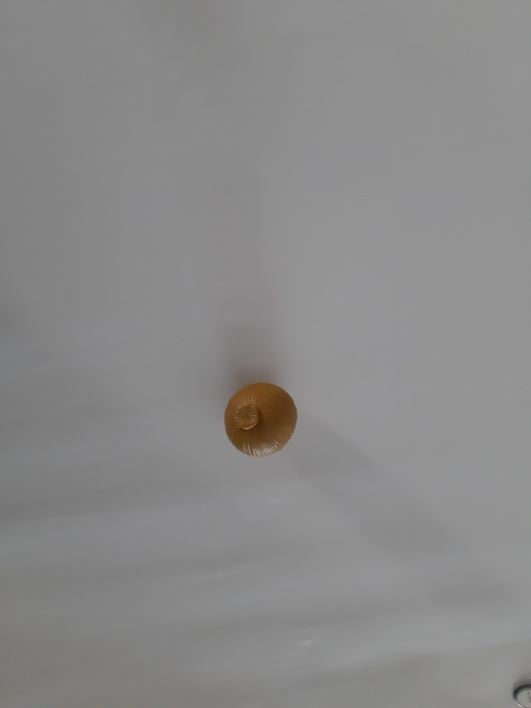onion: (201, 371, 320, 472)
